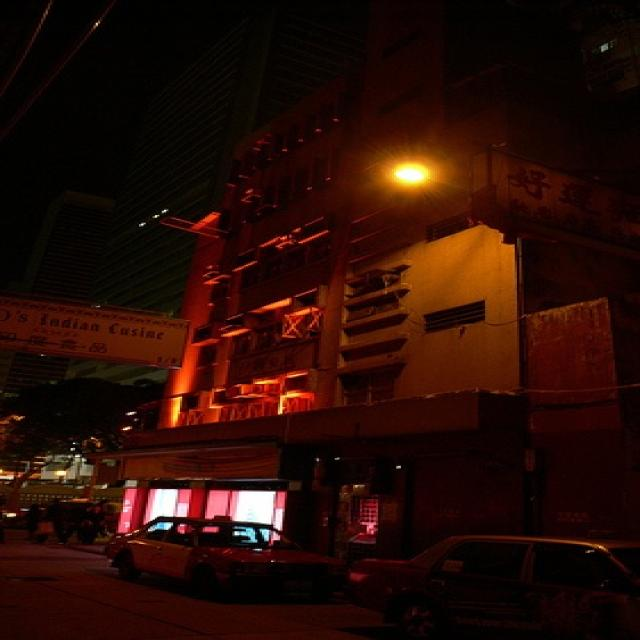Car: (382, 533, 640, 624), (130, 525, 308, 592)
